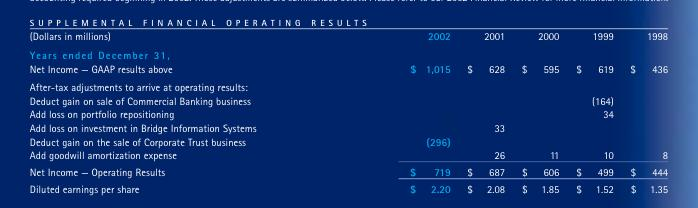table: (28, 28, 667, 177)
table column: (28, 28, 332, 177), (332, 28, 457, 177), (457, 28, 512, 177), (566, 28, 621, 177), (512, 28, 566, 177), (621, 28, 667, 177)
table column header: (28, 28, 667, 44)
table projected row header: (28, 44, 667, 61), (28, 77, 667, 93)
table row: (28, 44, 667, 61), (28, 28, 667, 44), (28, 61, 667, 77), (28, 77, 667, 93), (28, 147, 667, 162), (28, 162, 667, 177), (28, 106, 667, 120), (28, 133, 667, 147), (28, 93, 667, 106), (28, 120, 667, 133)
